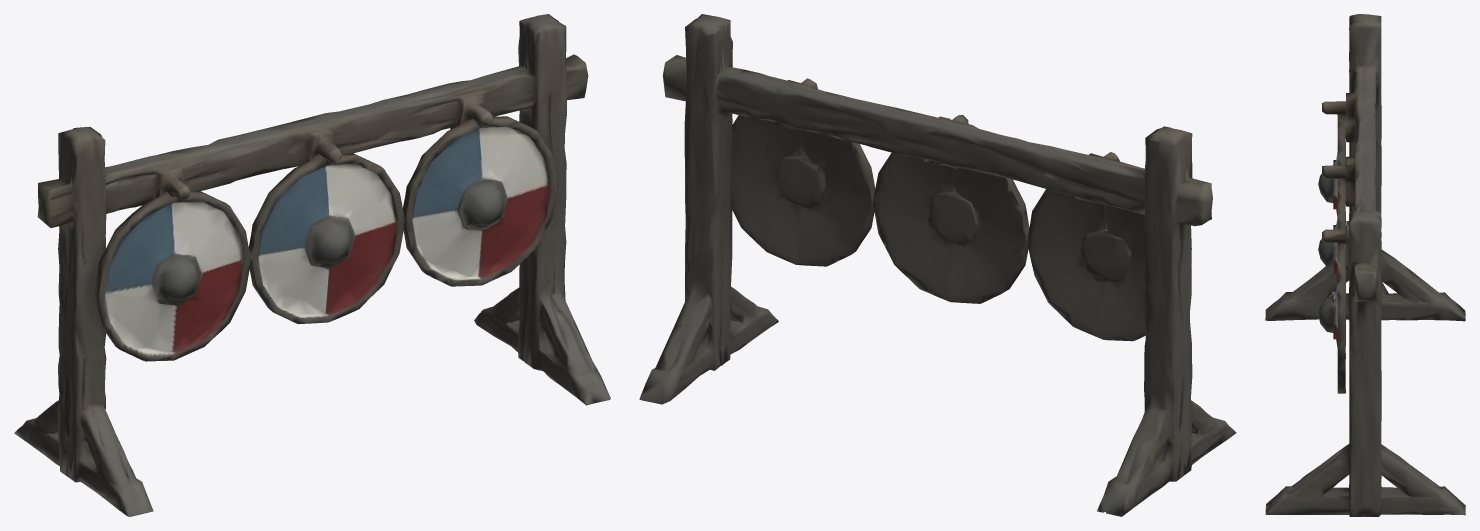
File: shield-rack.glb
3 renders of one model, left to right at view 1: azimuth 30°, elevation 25°; view 2: azimuth 150°, elevation 25°; view 3: azimuth 270°, elevation 25°, orthographic. The views are drawn at different scales.
Visible parts, largest first — view 1: tripo_node_50f08a58-ad82-40dc-b063-48ce80061b50; view 2: tripo_node_50f08a58-ad82-40dc-b063-48ce80061b50; view 3: tripo_node_50f08a58-ad82-40dc-b063-48ce80061b50.
Boxes of the visible parts, <box> form: tripo_node_50f08a58-ad82-40dc-b063-48ce80061b50: <box>14,14,610,516</box>; tripo_node_50f08a58-ad82-40dc-b063-48ce80061b50: <box>639,14,1236,516</box>; tripo_node_50f08a58-ad82-40dc-b063-48ce80061b50: <box>1265,14,1465,516</box>.
Size of the model in its own units: 1 by 0.6011 by 0.3673.
Materials: 1 (1 with a texture image).
